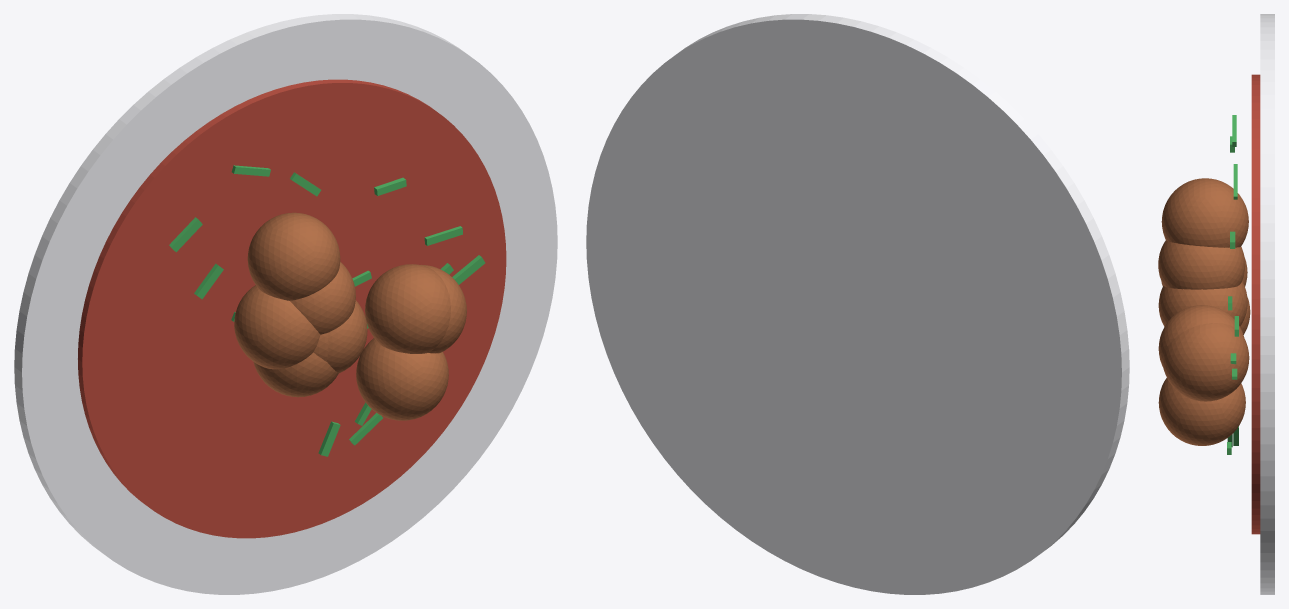
File: manchurian_plate.glb
The picture shows the model from 3 angles, left to right: view 1: azimuth 30°, elevation 25°; view 2: azimuth 150°, elevation 25°; view 3: azimuth 270°, elevation 25°; orthographic projection. The views are drawn at different scales.
Parts seen in each view (by area): view 1: Sauce, Plate, Ball_4, Ball_6, Ball_1, Ball_5, Ball_2, Ball_8, Ball_3, Ball_7; view 2: Plate; view 3: Plate, Ball_7, Ball_4, Sauce, Ball_1, Ball_2, Ball_3, Ball_6, Garnish_4, Ball_9.
Boxes of the visible parts, bbox=[...] form: Sauce: bbox=[78, 79, 506, 538]; Plate: bbox=[14, 14, 557, 594]; Ball_4: bbox=[247, 212, 340, 300]; Ball_6: bbox=[365, 264, 450, 353]; Ball_1: bbox=[356, 338, 448, 420]; Ball_5: bbox=[234, 285, 320, 369]; Ball_2: bbox=[290, 262, 355, 334]; Ball_8: bbox=[253, 352, 338, 397]; Ball_3: bbox=[326, 300, 367, 373]; Ball_7: bbox=[421, 264, 466, 353]; Plate: bbox=[586, 14, 1129, 594]; Plate: bbox=[1260, 14, 1274, 594]; Ball_7: bbox=[1162, 323, 1249, 401]; Ball_4: bbox=[1161, 178, 1248, 247]; Sauce: bbox=[1251, 74, 1260, 534]; Ball_1: bbox=[1158, 378, 1245, 445]; Ball_2: bbox=[1158, 240, 1245, 289]; Ball_3: bbox=[1158, 286, 1244, 326]; Ball_6: bbox=[1158, 305, 1244, 367]; Garnish_4: bbox=[1233, 164, 1237, 199]; Ball_9: bbox=[1237, 281, 1247, 324].
Size of the model in its own units: 0.24 by 0.24 by 0.0482.
